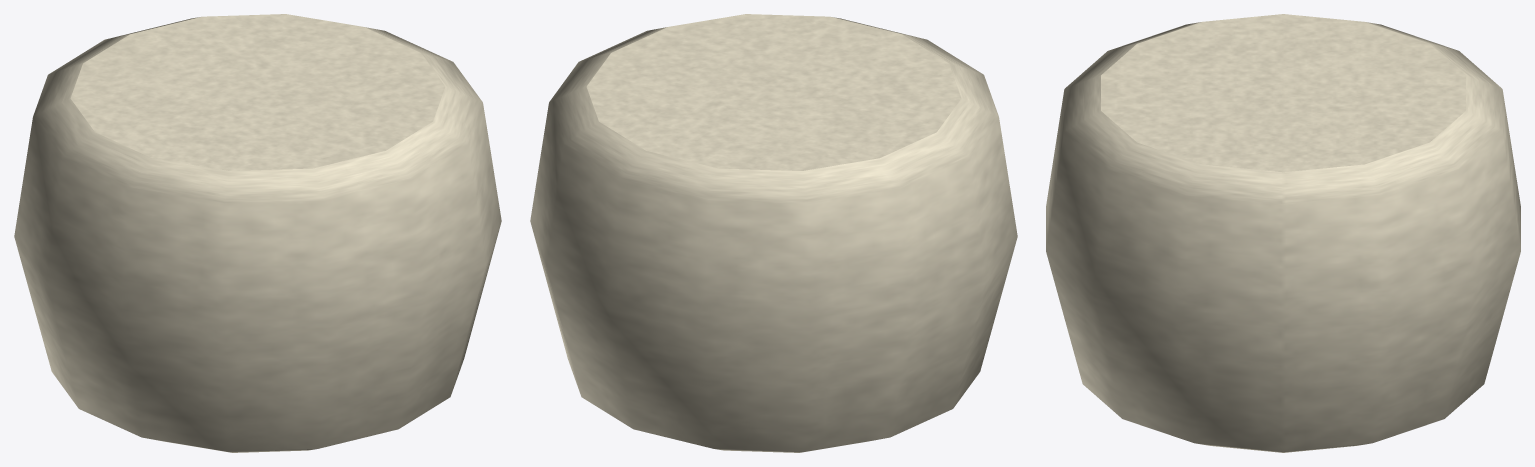
The model's file is paste_pot.glb.
3 views of the same model, side by side, from view 1: azimuth 30°, elevation 25°; view 2: azimuth 150°, elevation 25°; view 3: azimuth 270°, elevation 25° (orthographic).
Parts seen in each view (by area): view 1: Pot; view 2: Pot; view 3: Pot.
Boxes of the visible parts, x1=… form: Pot: x1=14, y1=14, x2=501, y2=452; Pot: x1=530, y1=14, x2=1017, y2=452; Pot: x1=1046, y1=14, x2=1520, y2=452.
Bounding box in the file's own units: 0.26 × 0.17 × 0.2535.
1 material, 1 textured.
